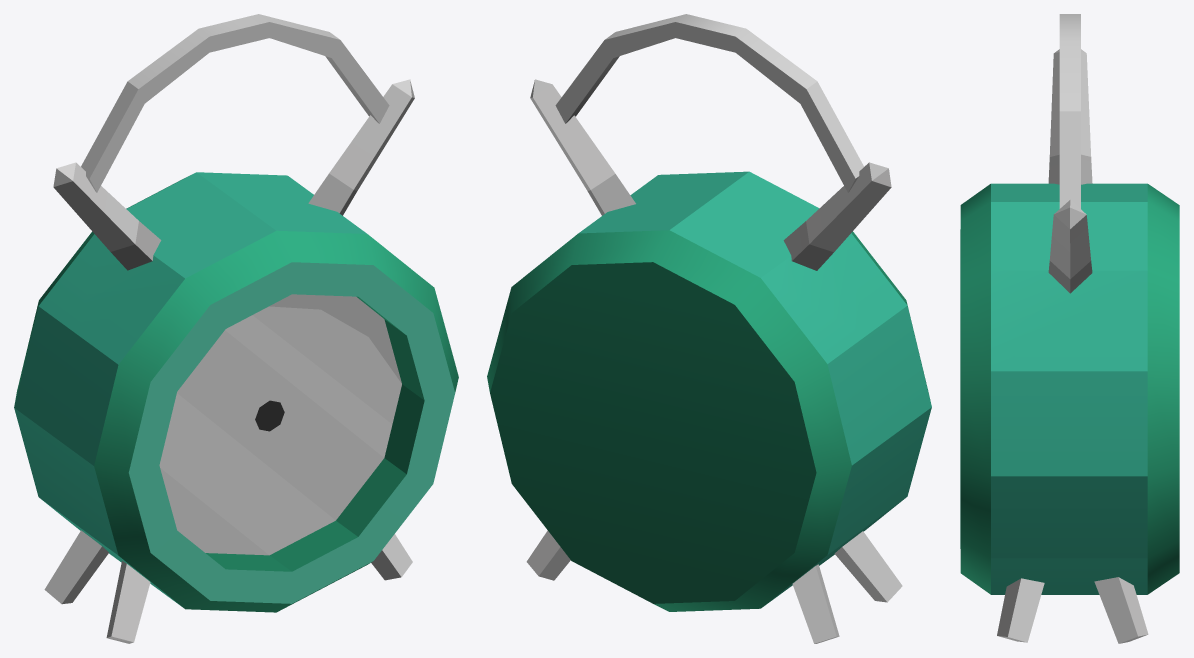
The model's file is goodTimesGreenClockBody.glb.
3 views of the same model, side by side, from view 1: azimuth 30°, elevation 25°; view 2: azimuth 150°, elevation 25°; view 3: azimuth 270°, elevation 25° (orthographic). The views are drawn at different scales.
Parts seen in each view (by area): view 1: goodTimesGreenClockBody; view 2: goodTimesGreenClockBody; view 3: goodTimesGreenClockBody.
Part boxes in pixels (left/top/right/bottom): goodTimesGreenClockBody: left=14, top=14, right=458, bottom=643; goodTimesGreenClockBody: left=487, top=14, right=931, bottom=643; goodTimesGreenClockBody: left=960, top=14, right=1179, bottom=643.
Bounding box in the file's own units: 0.4318 × 0.6391 × 0.229.
